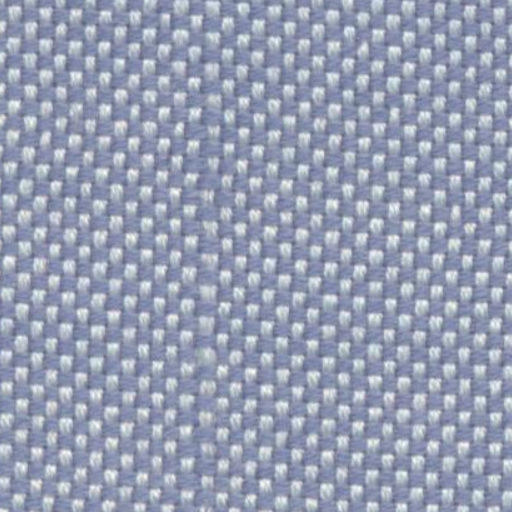TuoSha: (164, 16, 237, 498)
